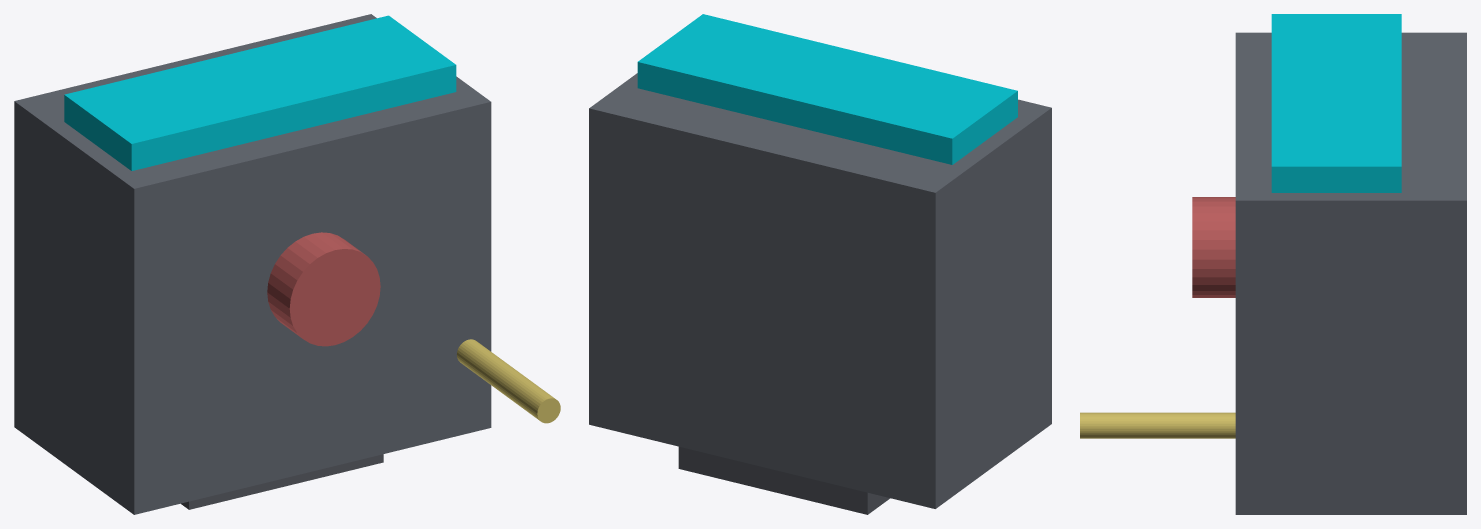
The model's file is casco_sensores.glb.
The picture shows the model from 3 angles, left to right: view 1: azimuth 30°, elevation 25°; view 2: azimuth 150°, elevation 25°; view 3: azimuth 270°, elevation 25°; orthographic projection. The views are drawn at different scales.
Parts seen in each view (by area): view 1: chasis_casco, visor_hud, sensor_lidar, antena_telemetria, bateria_respaldo; view 2: chasis_casco, visor_hud, bateria_respaldo; view 3: chasis_casco, visor_hud, sensor_lidar, antena_telemetria.
Boxes of the visible parts, bbox=[...] form: chasis_casco: bbox=[14, 14, 491, 514]; visor_hud: bbox=[64, 15, 456, 170]; sensor_lidar: bbox=[267, 232, 380, 346]; antena_telemetria: bbox=[456, 339, 560, 423]; bateria_respaldo: bbox=[181, 454, 383, 509]; chasis_casco: bbox=[589, 73, 1051, 508]; visor_hud: bbox=[637, 14, 1017, 164]; bateria_respaldo: bbox=[678, 446, 889, 514]; chasis_casco: bbox=[1235, 32, 1466, 514]; visor_hud: bbox=[1271, 14, 1401, 192]; sensor_lidar: bbox=[1192, 197, 1235, 297]; antena_telemetria: bbox=[1080, 412, 1235, 438].
Bounding box in the file's own units: 55 × 57 × 53.5.
